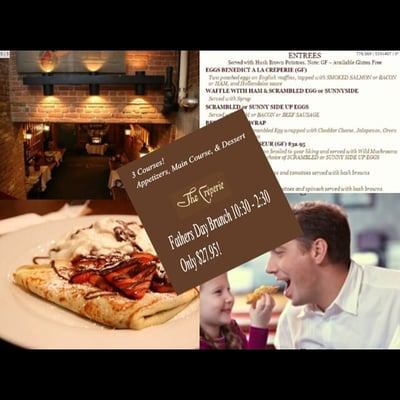pasta: (114, 109, 303, 294)
sandwich: (11, 215, 200, 330)
